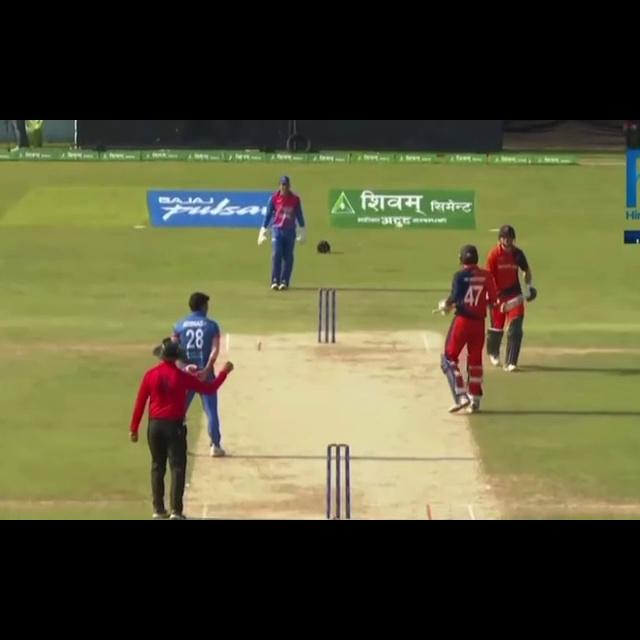umpire: (122, 333, 238, 520)
